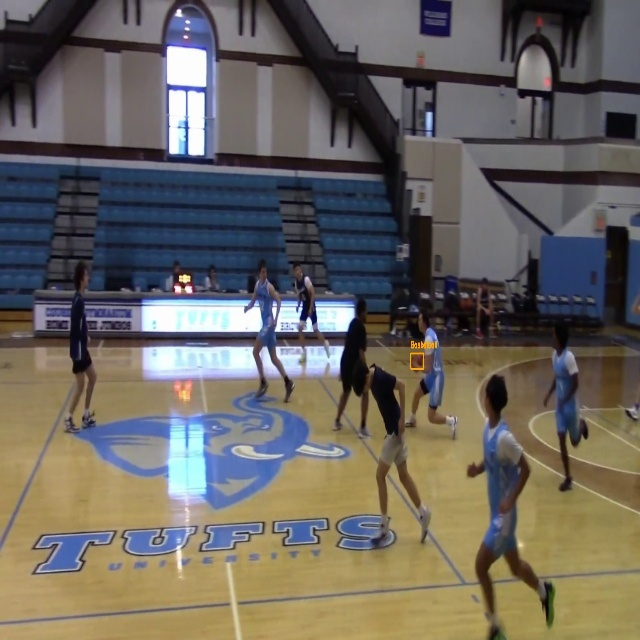Basketball: (411, 353, 423, 369)
